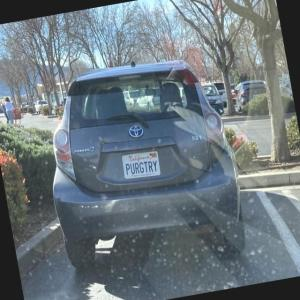Plate: (121, 150, 161, 179)
